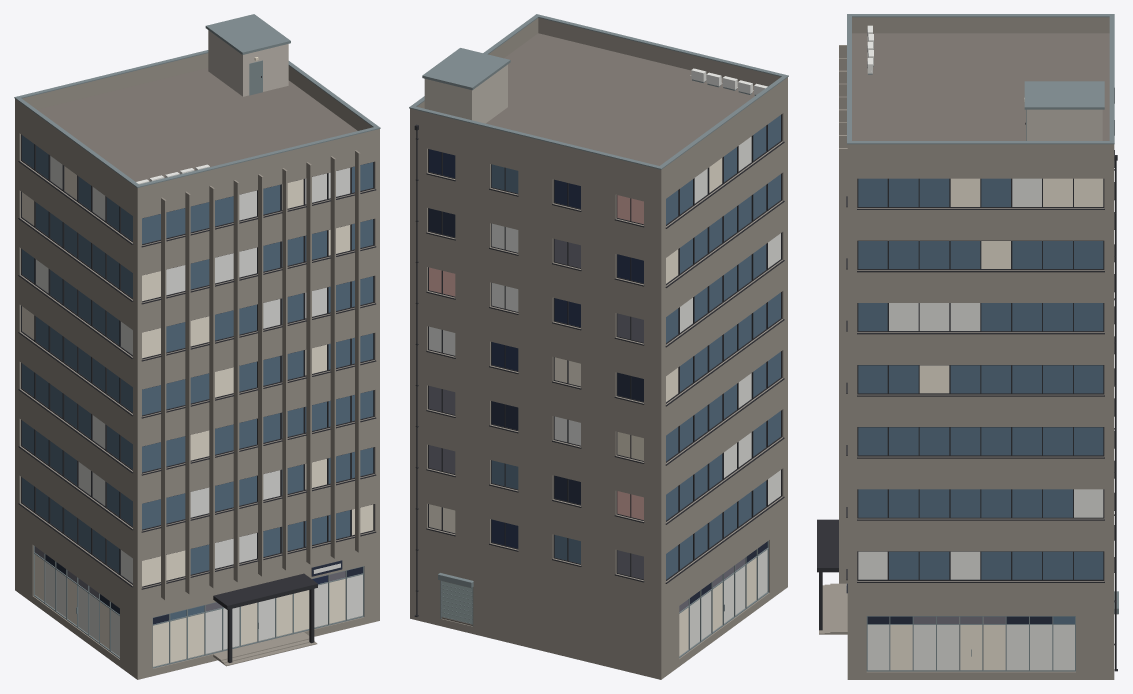
Rendered from tb_office_building_8f_01_b.fbx.
3 renders of one model, left to right at view 1: azimuth 30°, elevation 25°; view 2: azimuth 150°, elevation 25°; view 3: azimuth 270°, elevation 25°, orthographic. The views are drawn at different scales.
Parts seen in each view (by area): view 1: tb_office_building_8f_01_b; view 2: tb_office_building_8f_01_b; view 3: tb_office_building_8f_01_b.
Part boxes in pixels (x1,y1,x2,y2): tb_office_building_8f_01_b: (14, 14, 380, 679); tb_office_building_8f_01_b: (409, 14, 788, 679); tb_office_building_8f_01_b: (817, 14, 1118, 679).
Size of what is drawn, in the model's own units: 16.12 by 32.95 by 15.85.
3 materials, 3 textured.
